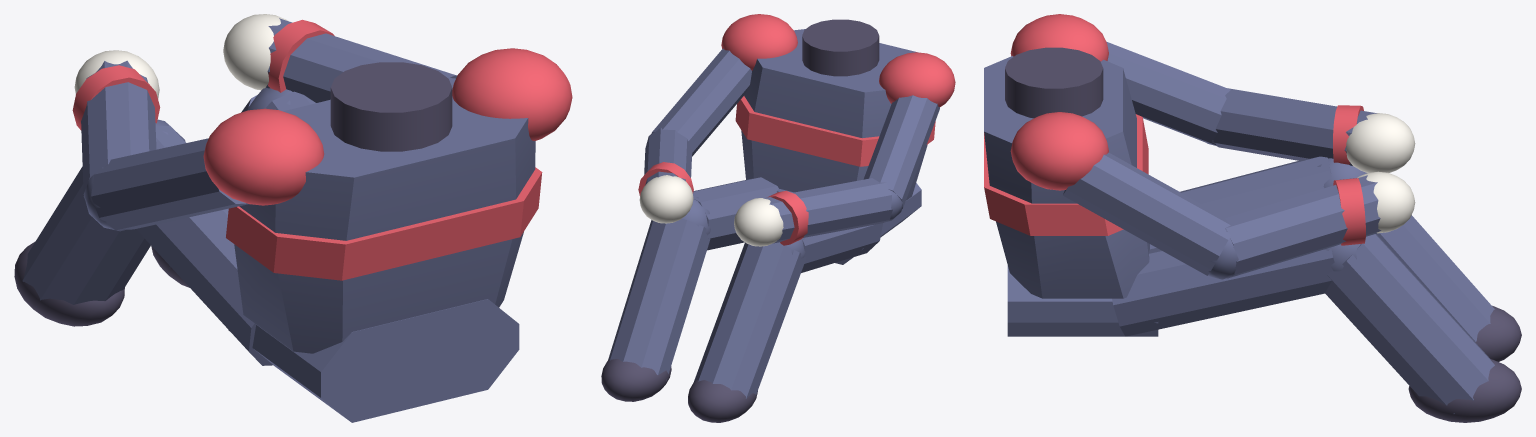
Rendered from kart_driver.glb.
3 views of the same model, side by side, from view 1: azimuth 30°, elevation 25°; view 2: azimuth 150°, elevation 25°; view 3: azimuth 270°, elevation 25° (orthographic). The views are drawn at different scales.
Parts seen in each view (by area): view 1: driver_suit, driver_suit_accent, driver_trim, driver_glove; view 2: driver_suit, driver_suit_accent, driver_trim, driver_glove; view 3: driver_suit, driver_suit_accent, driver_trim, driver_glove.
Part boxes in pixels (x1,y1,x2,y2): driver_suit: (22,18,535,422); driver_suit_accent: (72,19,572,280); driver_trim: (14,62,452,326); driver_glove: (74,14,288,99); driver_suit: (608,29,939,404); driver_suit_accent: (638,14,955,245); driver_trim: (601,19,879,422); driver_glove: (639,175,783,246); driver_suit: (984,41,1494,413); driver_suit_accent: (984,14,1365,245); driver_trim: (1005,47,1521,422); driver_glove: (1346,113,1415,233).
Bounding box in the file's own units: 0.644 × 0.616 × 0.929.
